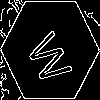W: (25, 25, 80, 88)
